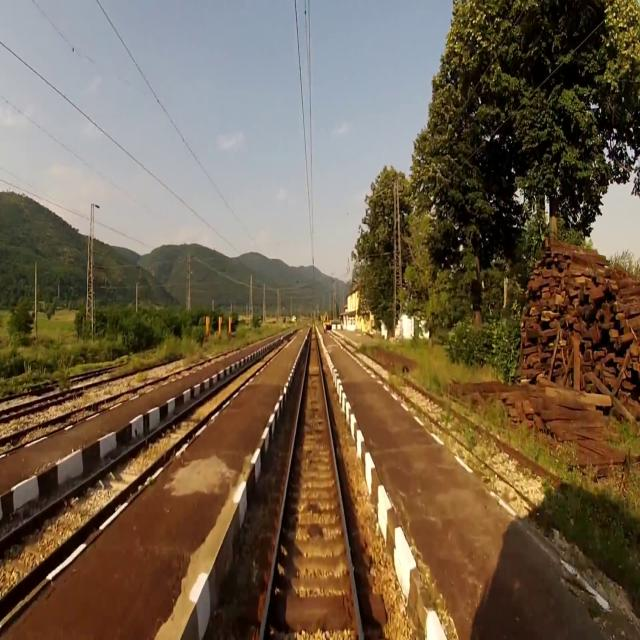rail-track: (353, 348, 640, 595), (0, 352, 270, 594), (263, 325, 360, 639), (0, 347, 230, 435)
